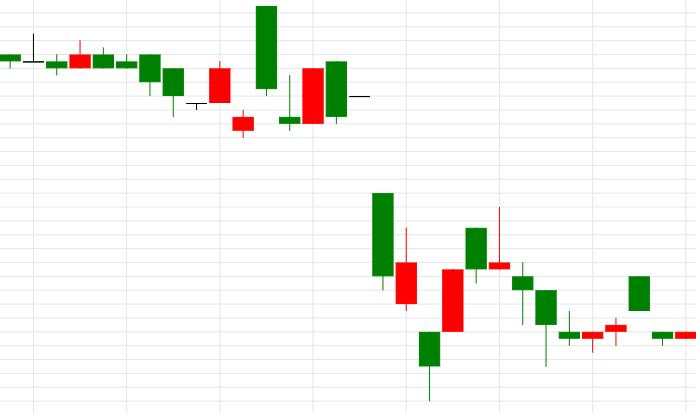hammer_rise: (327, 61, 441, 402)
